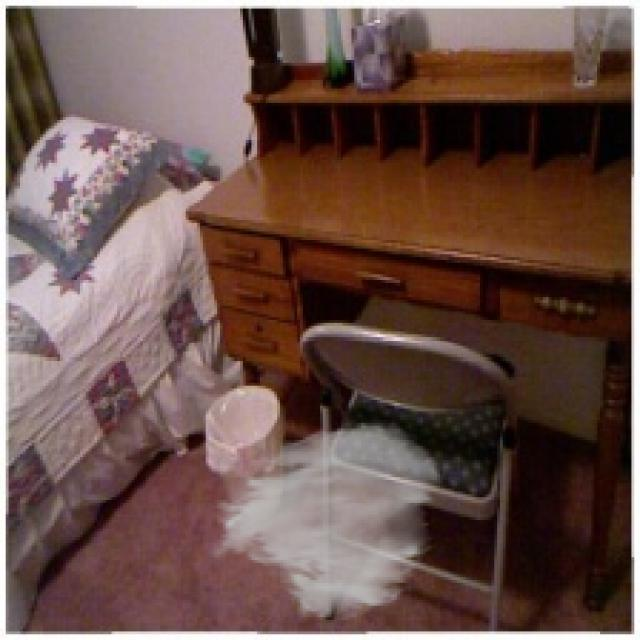Smoke: (205, 420, 446, 623)
